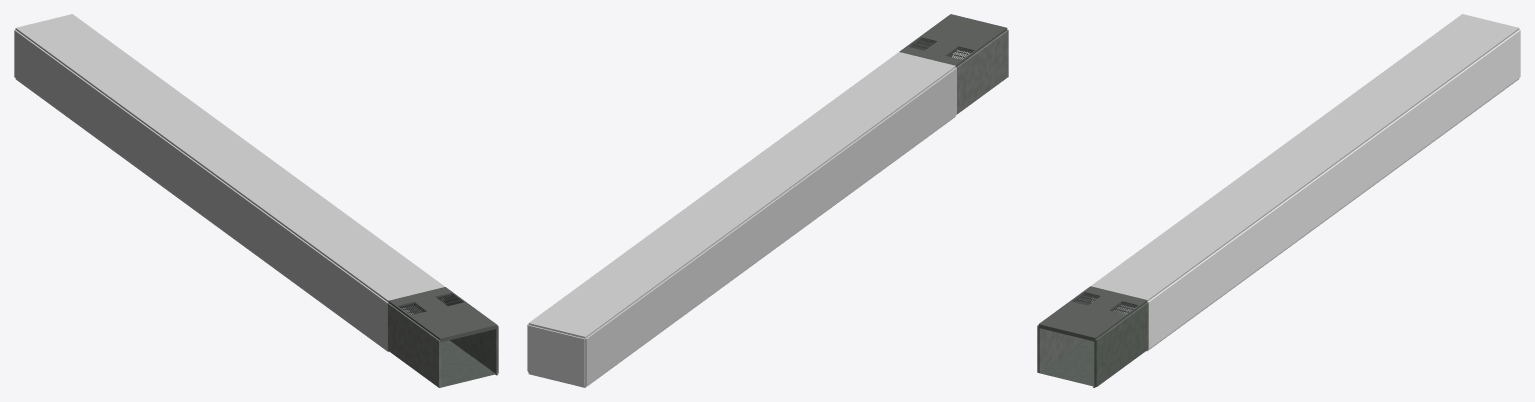
File: afterlight-courtyard.glb
3 views of the same model, side by side, from view 1: azimuth 30°, elevation 25°; view 2: azimuth 150°, elevation 25°; view 3: azimuth 330°, elevation 25° (orthographic).
Parts seen in each view (by area): view 1: FarCorridor_Roof, FarCorridor_LeftWall, RoomSurface, DrainRoof_Near, FarCorridor_Floor; view 2: FarCorridor_Roof, FarCorridor_LeftWall, FarCorridor_End, DrainRoof_Near, RoomSurface, FarCorridor_Floor; view 3: FarCorridor_Roof, FarCorridor_RightWall, RoomSurface, DrainRoof_Near, FarCorridor_Floor.
Boxes of the visible parts, x1,y1,x2,y2 form: FarCorridor_Roof: (15, 14, 444, 301); FarCorridor_LeftWall: (14, 30, 388, 349); RoomSurface: (387, 296, 498, 387); DrainRoof_Near: (388, 287, 497, 342); FarCorridor_Floor: (15, 78, 413, 351); FarCorridor_Roof: (528, 52, 955, 338); FarCorridor_LeftWall: (585, 67, 956, 385); FarCorridor_End: (528, 325, 585, 385); DrainRoof_Near: (899, 14, 1007, 67); RoomSurface: (912, 30, 1008, 114); FarCorridor_Floor: (528, 116, 955, 387); FarCorridor_Roof: (1091, 14, 1519, 301); FarCorridor_RightWall: (1148, 29, 1520, 348); RoomSurface: (1037, 296, 1148, 387); DrainRoof_Near: (1038, 286, 1147, 341); FarCorridor_Floor: (1122, 78, 1519, 351).
Size of the model in its own units: 3.98 by 3.28 by 49.18.
5 materials, 1 textured.
